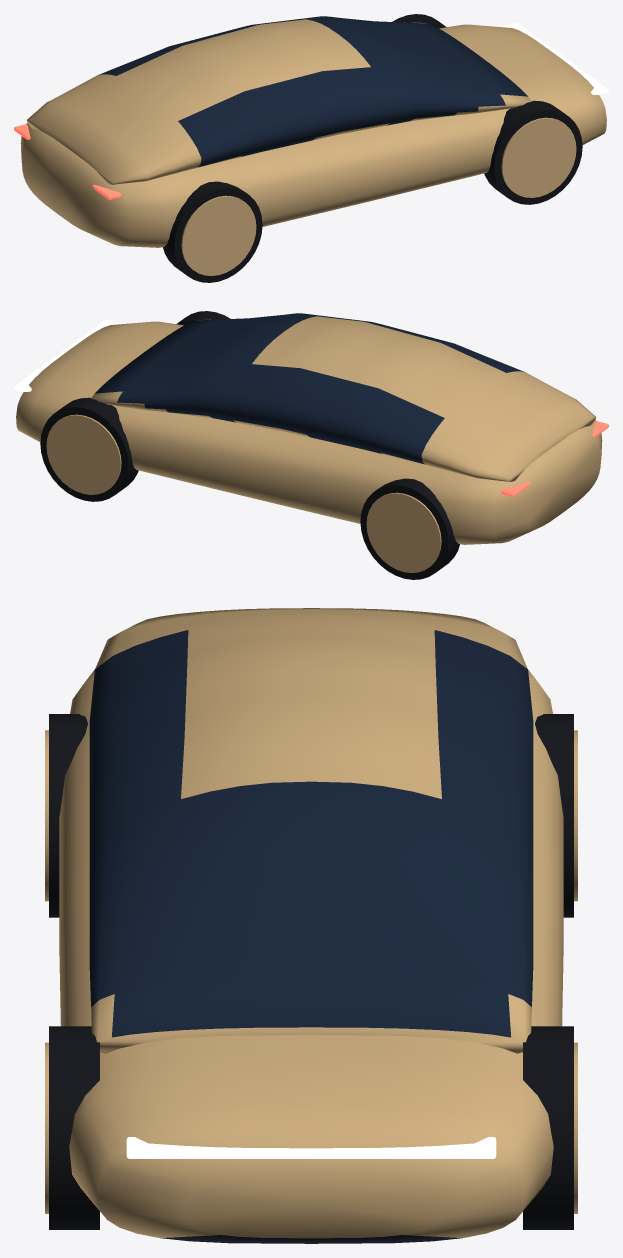
The model's file is robotaxi.glb.
3 views of the same model, one above another, from view 1: azimuth 30°, elevation 25°; view 2: azimuth 150°, elevation 25°; view 3: azimuth 270°, elevation 25° (orthographic). The views are drawn at different scales.
Parts seen in each view (by area): view 1: robotaxi; view 2: robotaxi; view 3: robotaxi.
Part boxes in pixels (bbox=[...]): robotaxi: bbox=[14, 14, 608, 282]; robotaxi: bbox=[14, 311, 608, 579]; robotaxi: bbox=[45, 608, 577, 1243].
Bounding box in the file's own units: 4.6 × 1.4 × 2.09.
